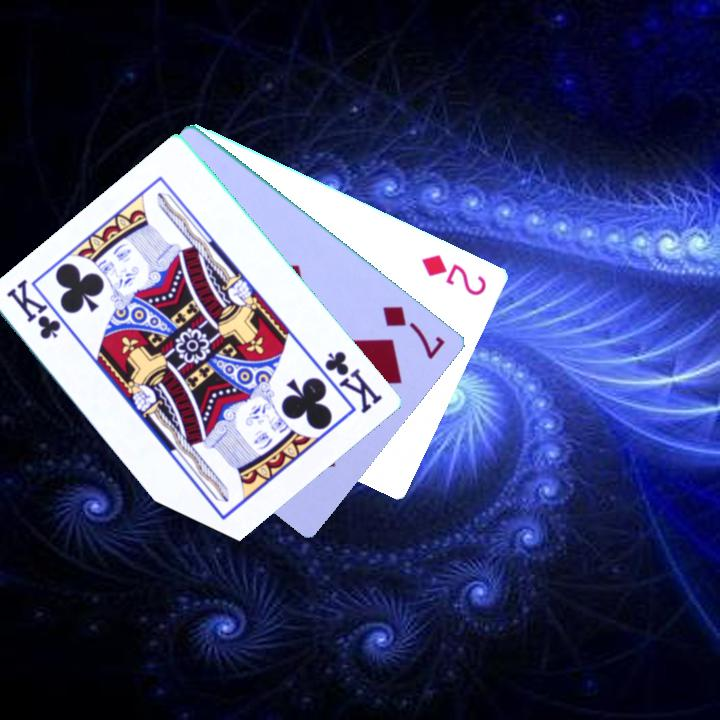2d: (418, 250, 491, 299)
7d: (379, 302, 449, 363)
Kc: (321, 347, 386, 417), (4, 276, 65, 343)
